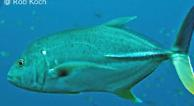Carangidae -Jacks-: (5, 0, 194, 106)
